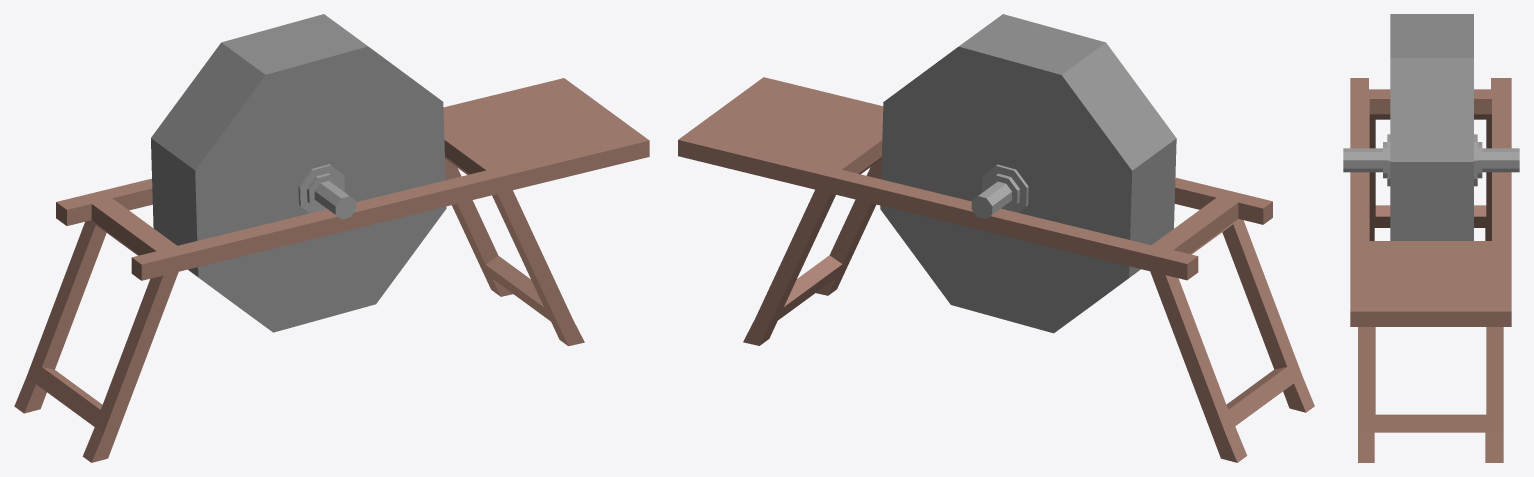
Rendered from Grindstone.fbx.
The picture shows the model from 3 angles, left to right: view 1: azimuth 30°, elevation 25°; view 2: azimuth 150°, elevation 25°; view 3: azimuth 270°, elevation 25°; orthographic projection. The views are drawn at different scales.
Parts seen in each view (by area): view 1: Grindstone; view 2: Grindstone; view 3: Grindstone.
Part boxes in pixels (x1=…): Grindstone: x1=14, y1=14, x2=649, y2=462; Grindstone: x1=678, y1=14, x2=1314, y2=462; Grindstone: x1=1343, y1=14, x2=1519, y2=462.
Size of the model in its own units: 163 by 93.22 by 47.6.
